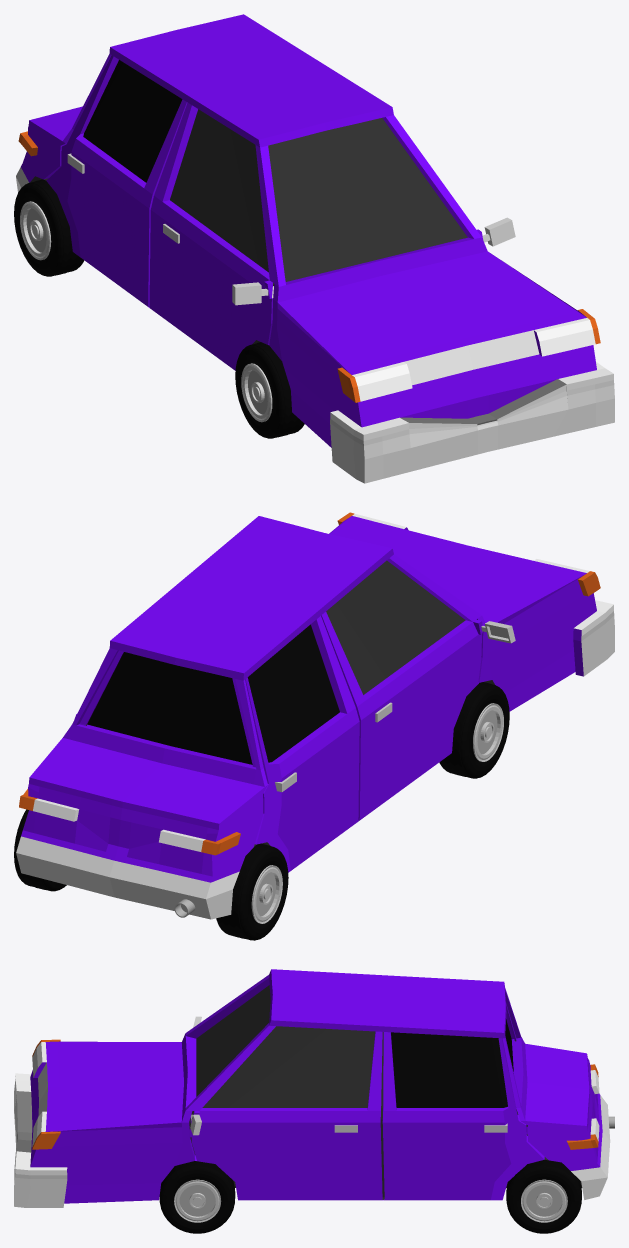
File: CR-CAR2-4.fbx
The picture shows the model from 3 angles, top to bottom: view 1: azimuth 30°, elevation 25°; view 2: azimuth 150°, elevation 25°; view 3: azimuth 270°, elevation 25°; orthographic projection. The views are drawn at different scales.
Visible parts, largest first — view 1: BODY, WHEEL.004, WHEEL.001; view 2: BODY, WHEEL.004, WHEEL.001, WHEEL.002; view 3: BODY, WHEEL.002, WHEEL.003.
Part boxes in pixels (x1,y1,x2,y2): BODY: [16, 14, 614, 483]; WHEEL.004: [14, 179, 84, 276]; WHEEL.001: [235, 342, 304, 438]; BODY: [16, 512, 614, 919]; WHEEL.004: [216, 843, 288, 940]; WHEEL.001: [439, 682, 509, 778]; WHEEL.002: [14, 809, 66, 891]; BODY: [14, 969, 610, 1207]; WHEEL.002: [506, 1159, 581, 1233]; WHEEL.003: [159, 1161, 235, 1233].
Bounding box in the file's own units: 131 × 112 × 310.
